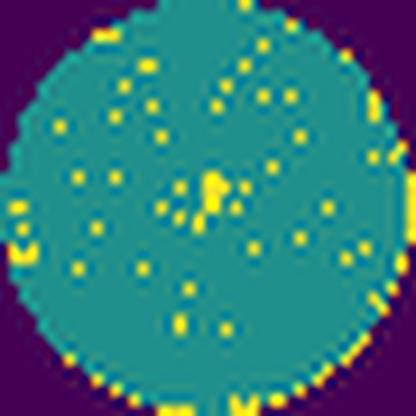Center: (149, 161, 238, 238)
